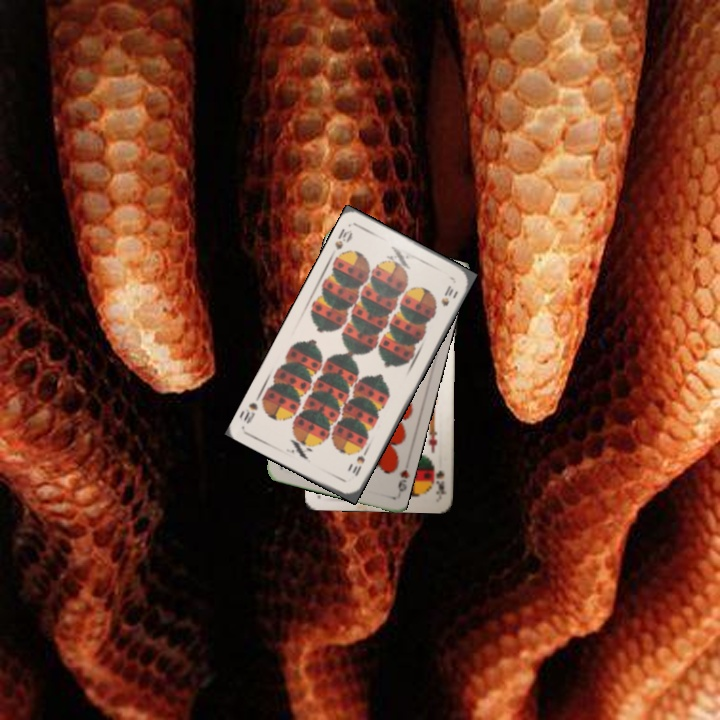H9: (394, 465, 411, 494)
S10: (326, 224, 355, 260), (348, 446, 370, 479)
SK: (429, 461, 448, 497)
